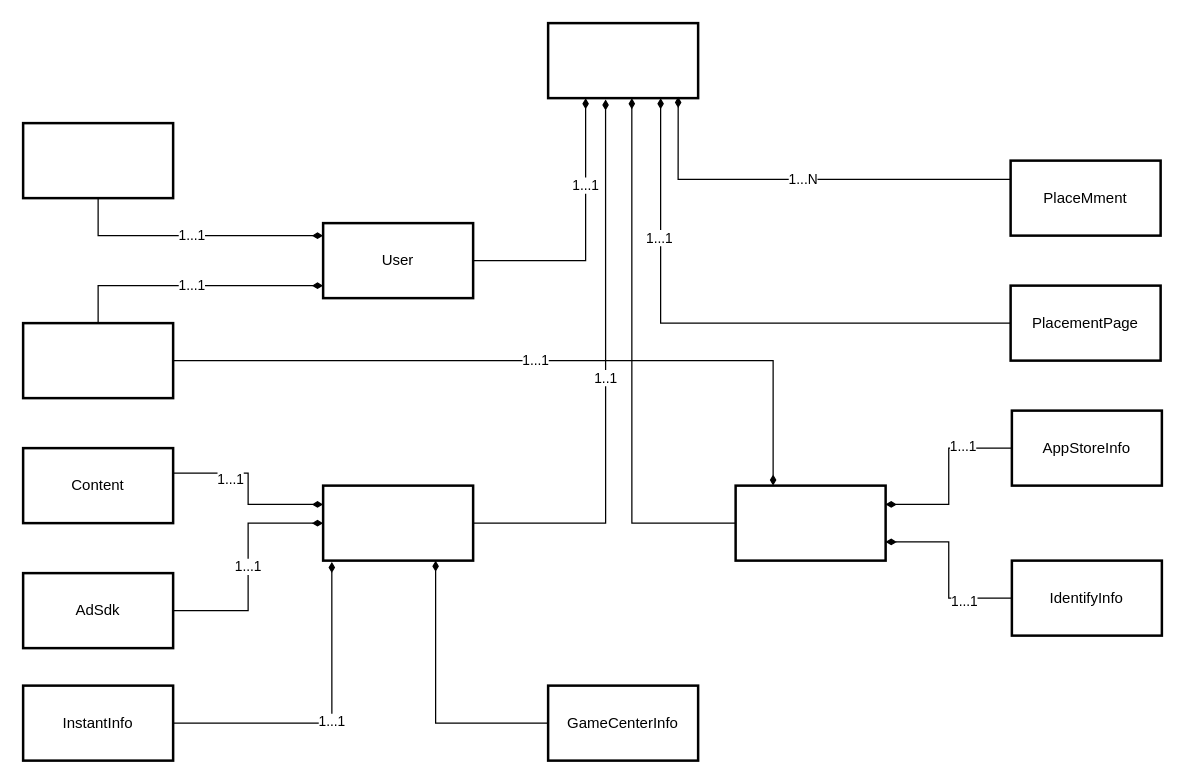
This 1184x783 diagram has some shape labels left out. The centre of each missing label's shape, as x and y in pixels:
AdRequst: pixel 622 60
Behavior: pixel 97 160
Device: pixel 810 522
Geo: pixel 97 360
Media: pixel 397 522
